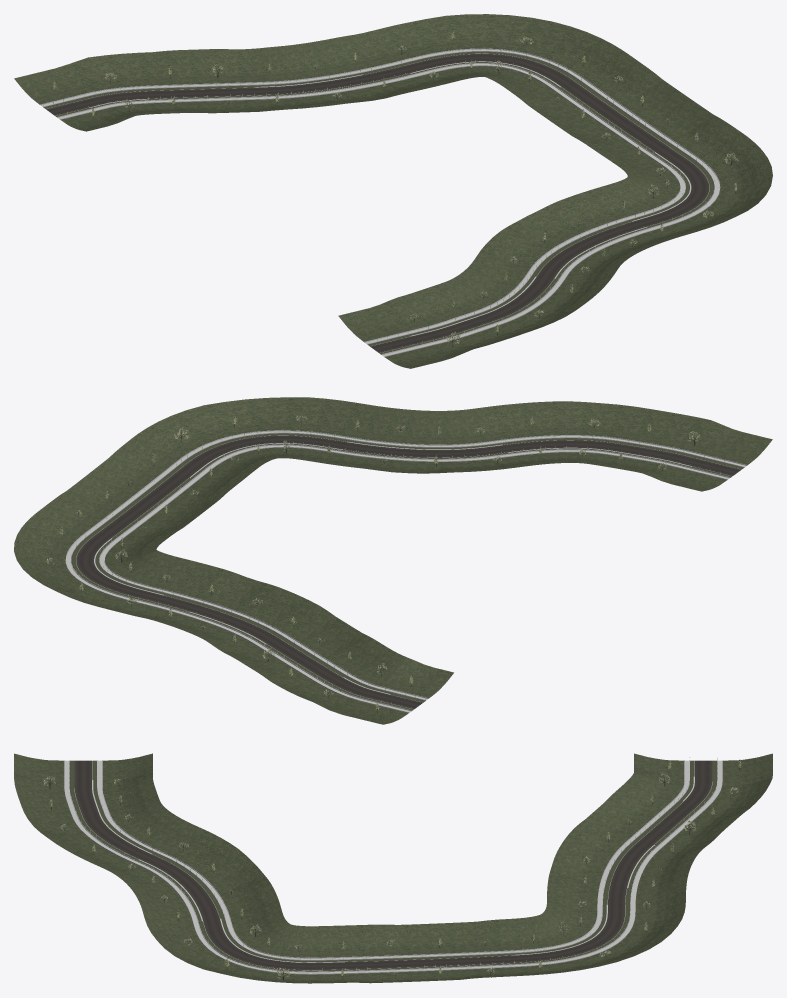
The picture shows the model from 3 angles, top to bottom: view 1: azimuth 30°, elevation 25°; view 2: azimuth 150°, elevation 25°; view 3: azimuth 270°, elevation 25°; orthographic projection. The views are drawn at different scales.
Parts seen in each view (by area): view 1: Grass, Road, Track, Trees; view 2: Grass, Track, Road, Trees; view 3: Grass, Road, Track, Trees.
Boxes of the visible parts, x1,y1,x2,y2 form: Grass: (14, 14, 772, 368); Road: (46, 53, 709, 352); Track: (40, 48, 720, 356); Trees: (52, 30, 738, 347); Grass: (14, 397, 772, 724); Track: (65, 430, 746, 712); Road: (76, 435, 741, 709); Trees: (46, 416, 699, 713); Grass: (14, 753, 772, 983); Road: (74, 760, 712, 970); Track: (64, 757, 722, 974); Trees: (43, 759, 741, 980).
Size of what is drawn, in the model's own units: 54689 by 2323 by 76500.
